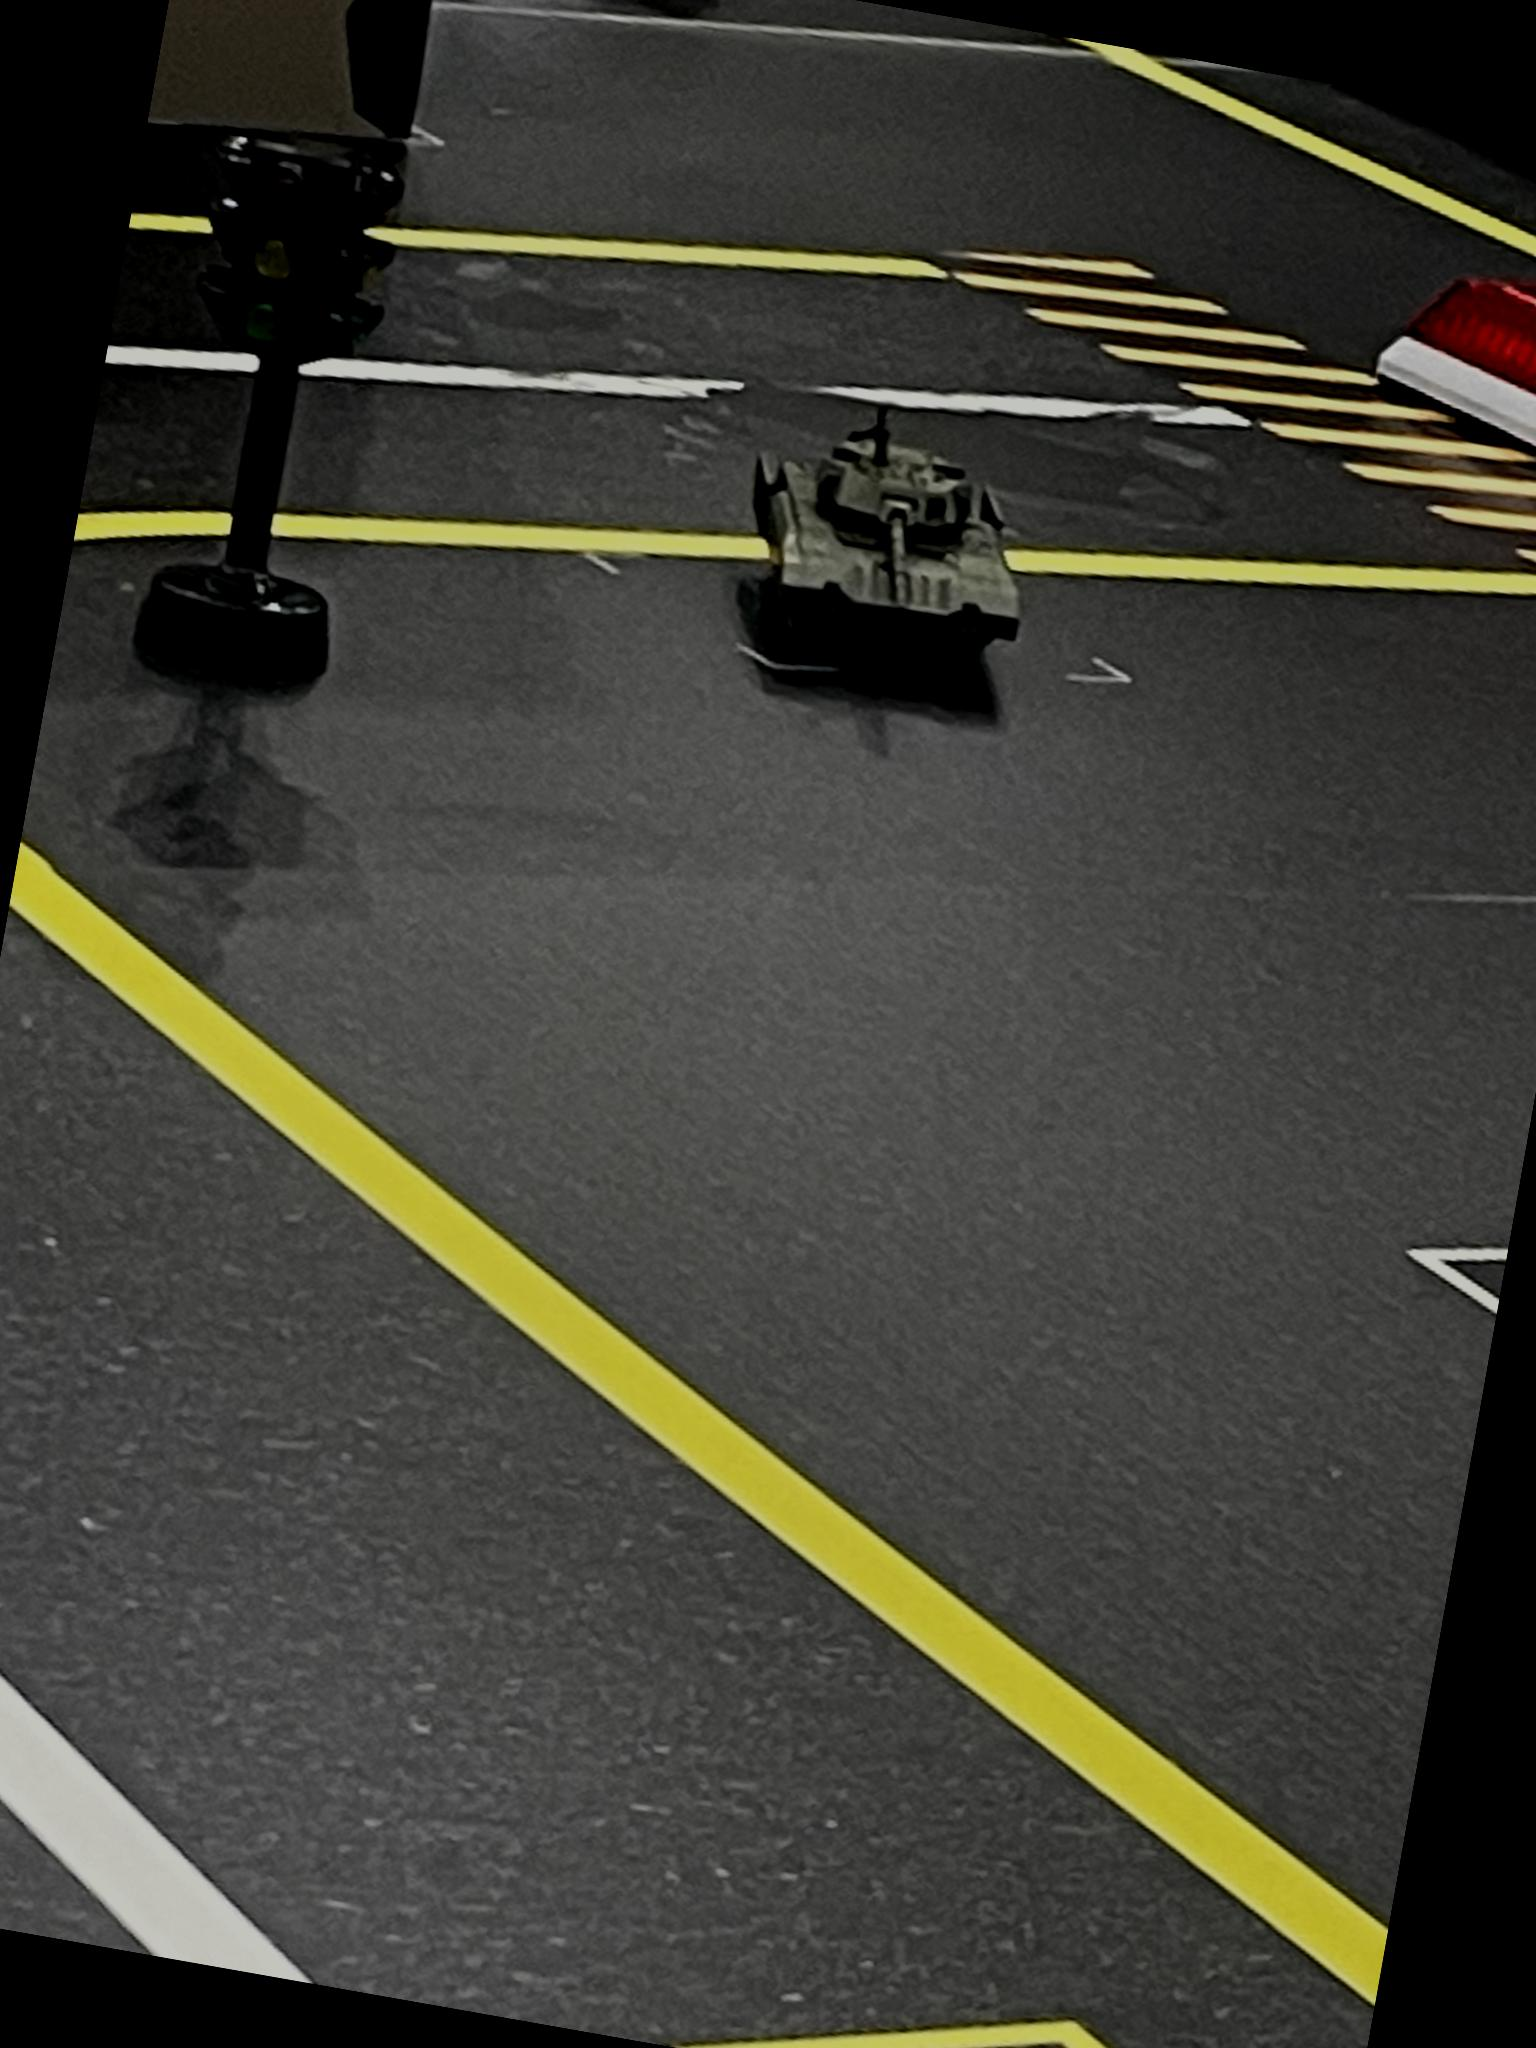Tank: (700, 376, 1070, 708)
